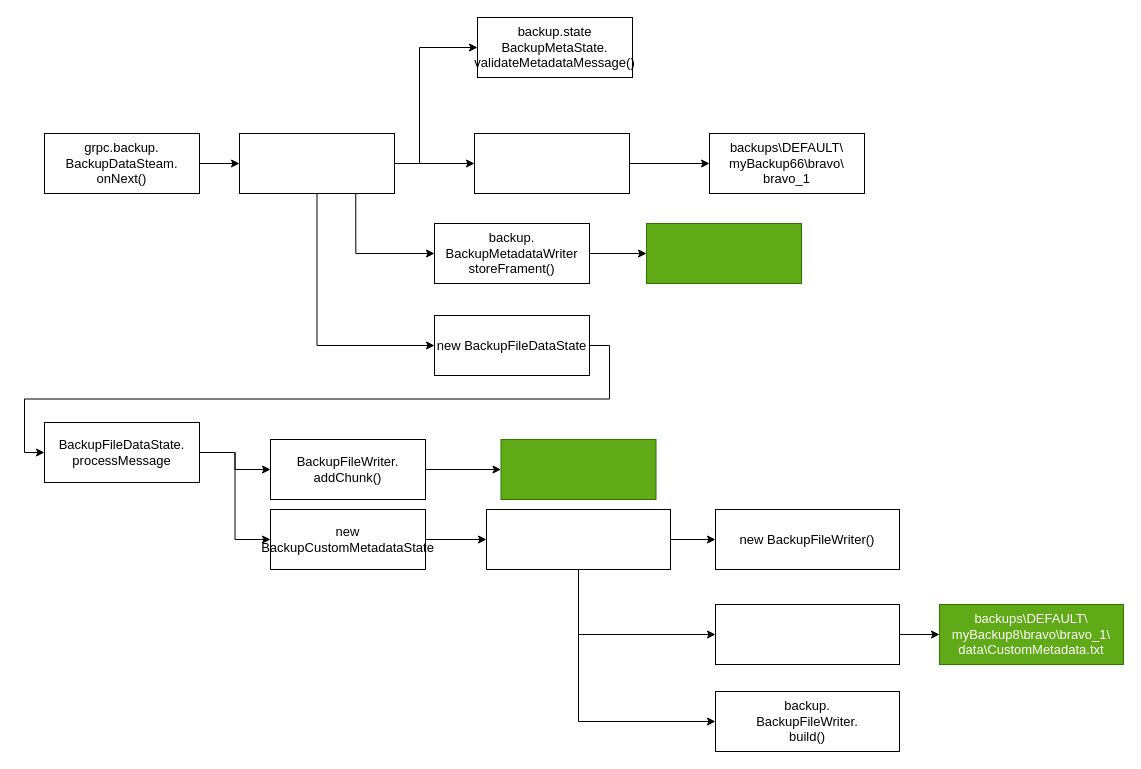
The diagram is 1141 pixels wide and 769 high, and some of its shapes have lost their labels. The shapes that lost their labels are listed below. From the top down, each one's centre as x and y in pixels, then its label:
pixel 316 163: backup.state BackupMetadataState. processMessage()
pixel 552 163: job.CreateBackupJob. getFramentFolder()
pixel 724 253: backups\DEFAULT\ myBackup6\bravo\bravo_1\ Fragment.json
pixel 578 469: backups\DEFAULT\ myBackup7\bravo\bravo_1\ data\data.txt
pixel 578 539: backup.state BackupCustomMetadataState. processMessage
pixel 807 634: backup. BackupFileWriter. addChunk()
